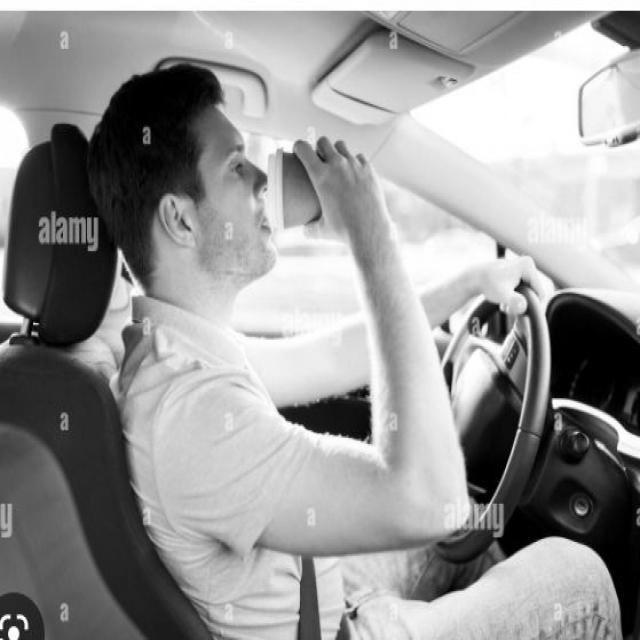Drinking: (262, 146, 344, 235)
